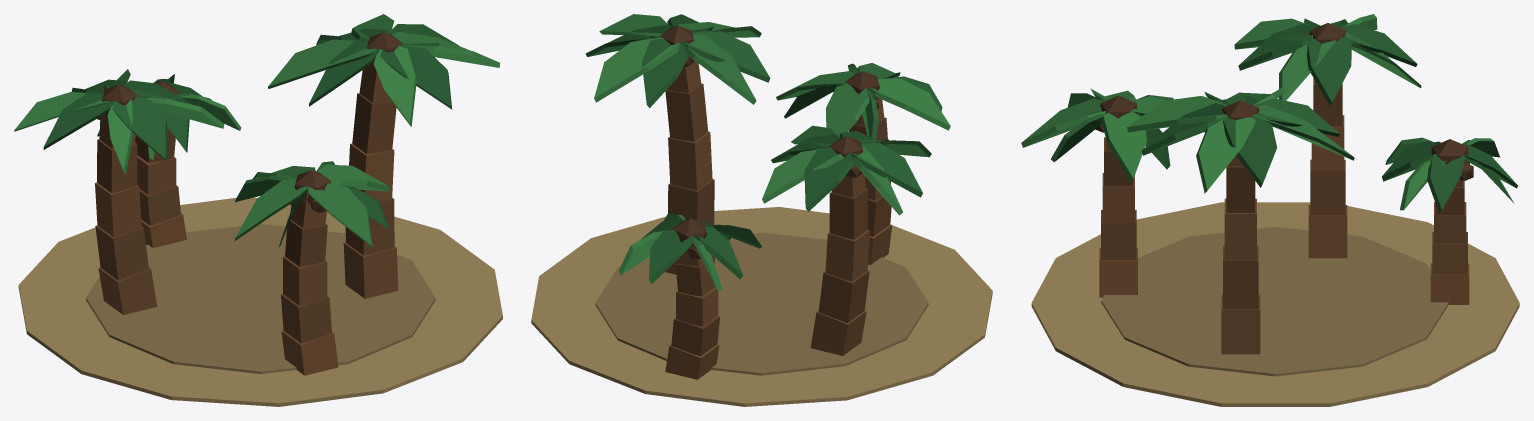
File: Decor_Volcano_Palms.fbx
The picture shows the model from 3 angles, left to right: view 1: azimuth 30°, elevation 25°; view 2: azimuth 150°, elevation 25°; view 3: azimuth 270°, elevation 25°; orthographic projection. The views are drawn at different scales.
Parts seen in each view (by area): view 1: Palms_Body; view 2: Palms_Body; view 3: Palms_Body.
Boxes of the visible parts, x1,y1,x2,y2 form: Palms_Body: (14, 14, 502, 406); Palms_Body: (531, 14, 992, 406); Palms_Body: (1021, 14, 1519, 406).
Size of the model in its own units: 14.08 by 8.5 by 14.76.
